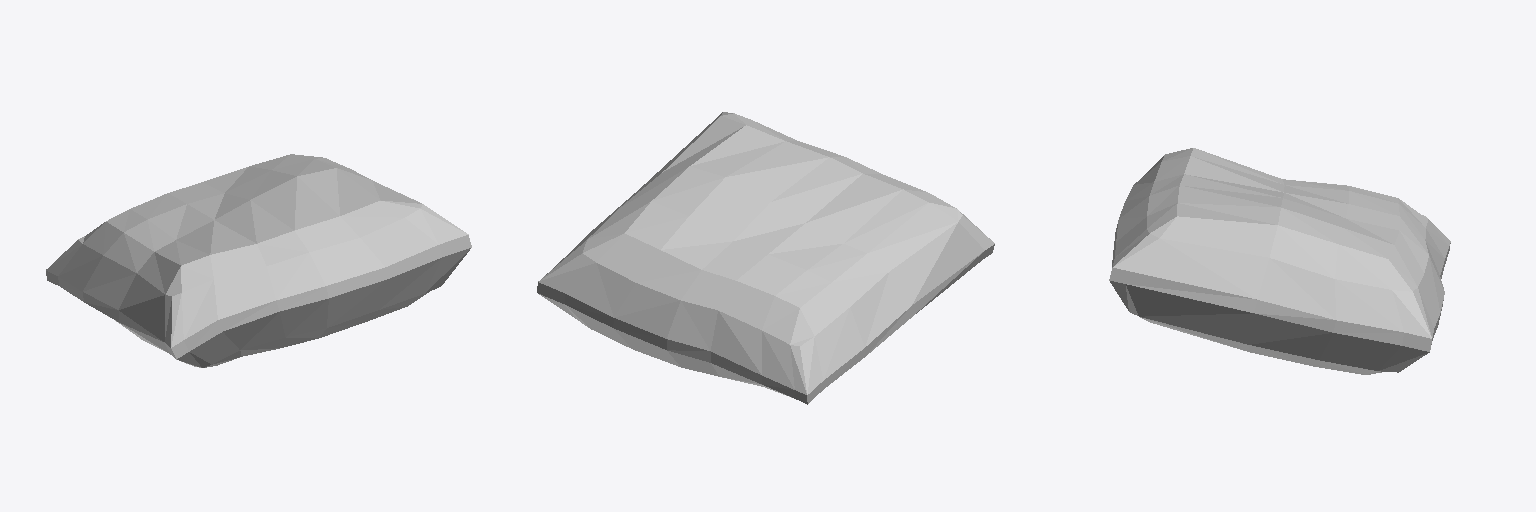
File: Pillow2.obj
The picture shows the model from 3 angles: view 1: azimuth 30°, elevation 25°; view 2: azimuth 150°, elevation 25°; view 3: azimuth 270°, elevation 25°; orthographic projection.
Parts seen in each view (by area): view 1: Pillow2; view 2: Pillow2; view 3: Pillow2.
Boxes of the visible parts, box(x1,y1,x2,y2) form: Pillow2: box(46, 154, 471, 367); Pillow2: box(537, 112, 994, 404); Pillow2: box(1109, 148, 1450, 374).
Size of the model in its own units: 10.73 by 4.95 by 10.18.